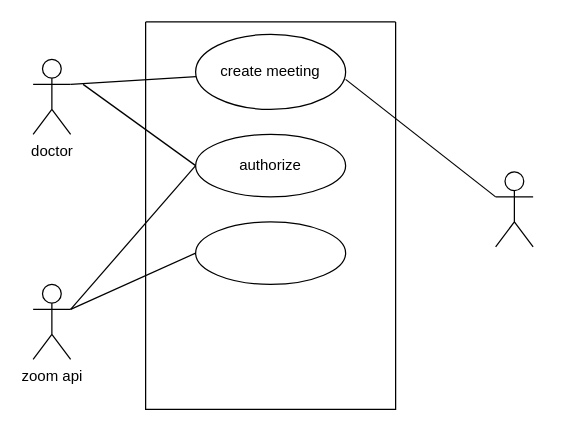
This 566x431 diagram has some shape labels left out. Each missing label, with the box of its shape:
call back: (194, 221, 346, 284)
database: (494, 171, 533, 247)
